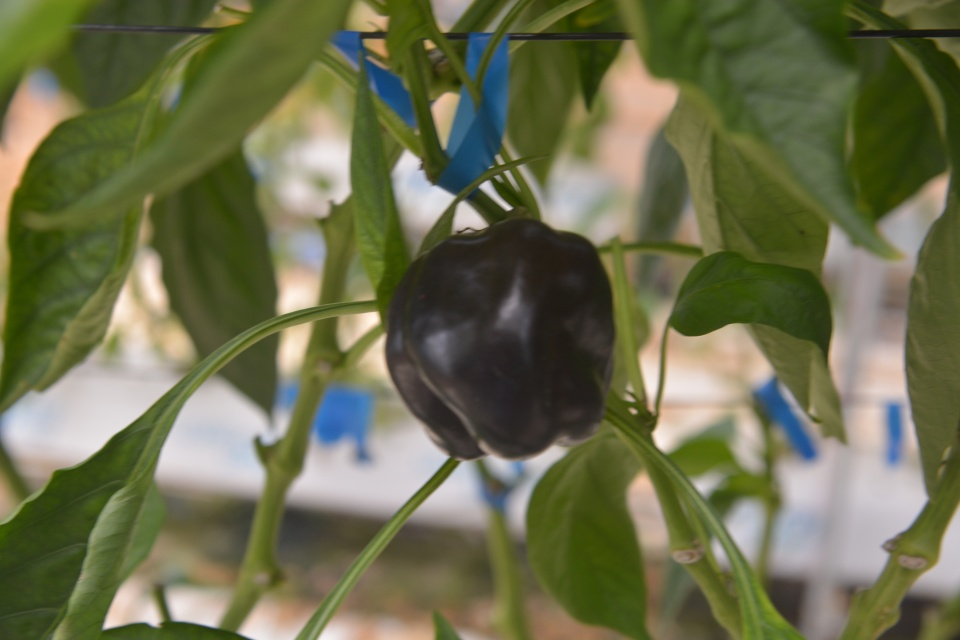fruit: (382, 213, 619, 462)
